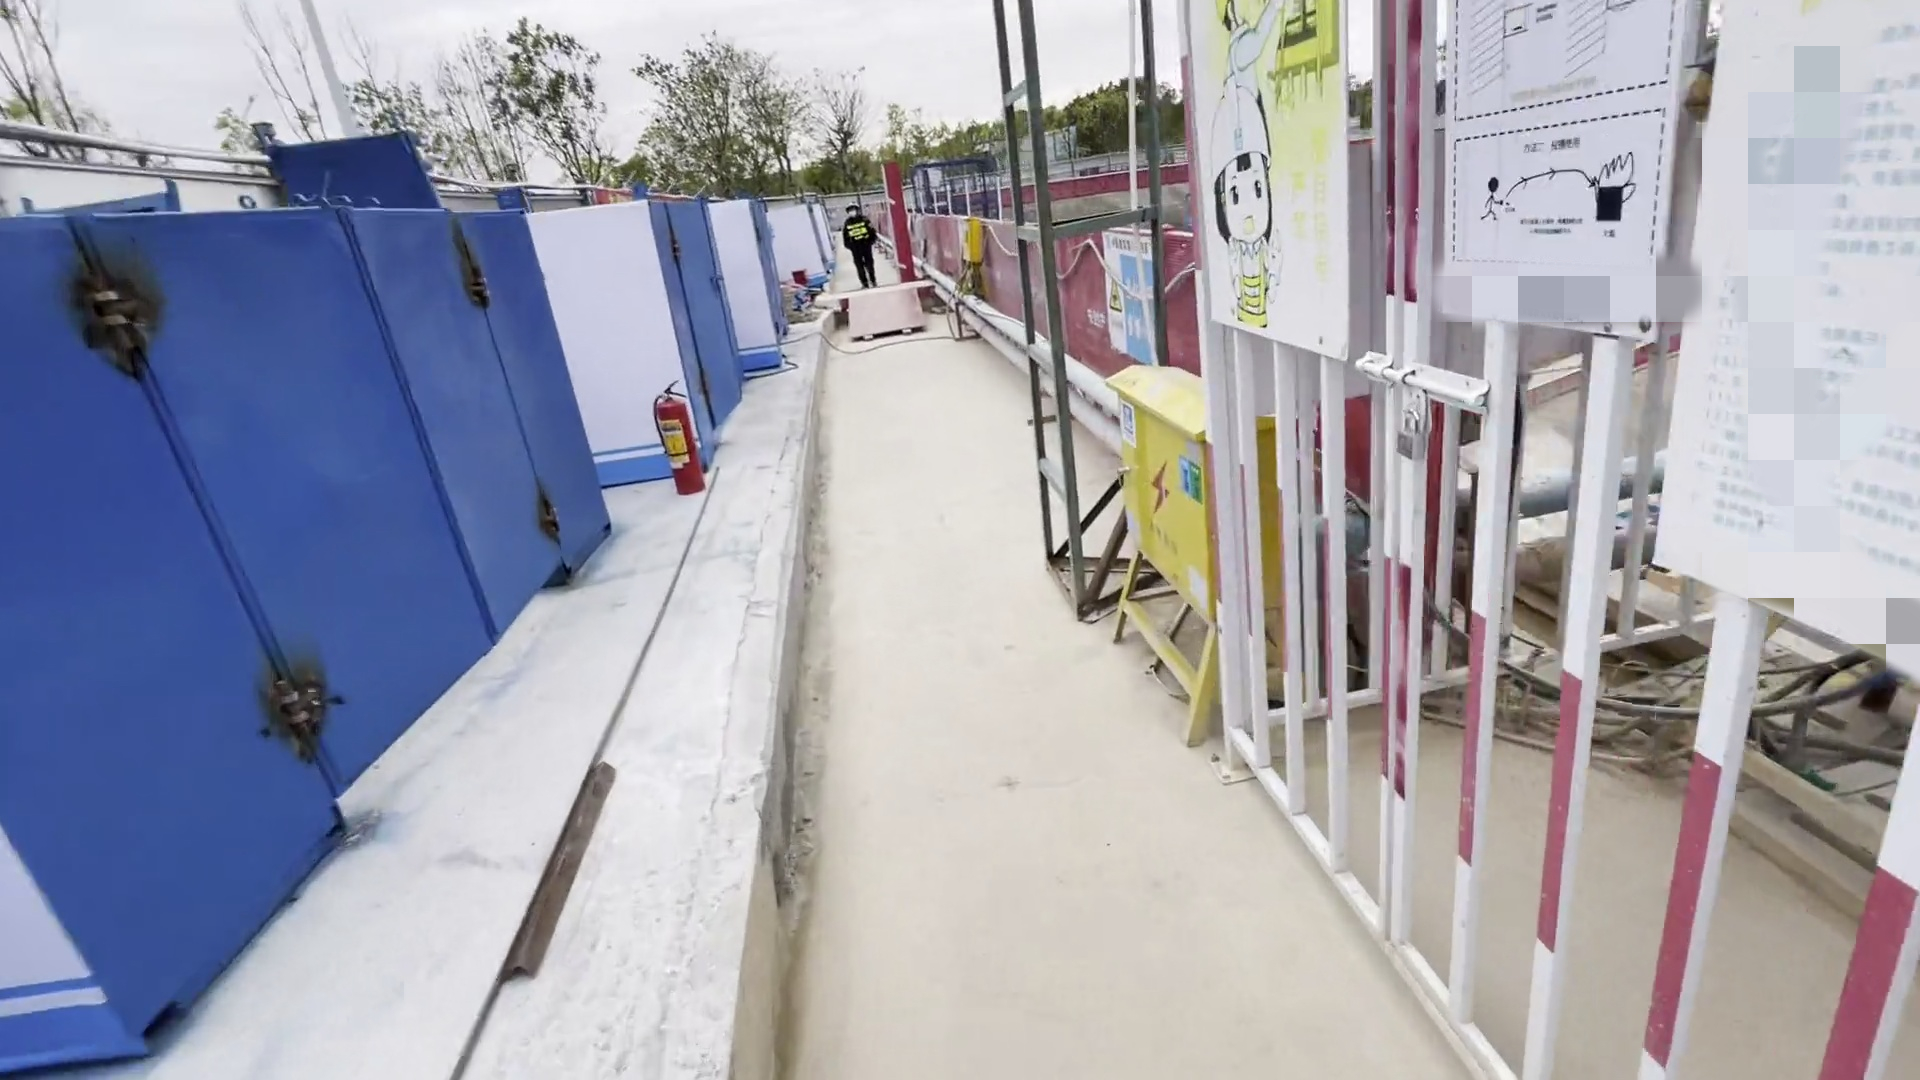board: (840, 285, 944, 345)
ebox: (1107, 351, 1338, 737), (940, 218, 998, 270)
fence: (908, 218, 1208, 399), (977, 172, 1183, 214)
helmet: (842, 200, 864, 211)
person: (835, 195, 894, 289)
slogan: (1627, 16, 1920, 584), (1431, 5, 1677, 373), (1190, 3, 1368, 376), (1083, 211, 1167, 378), (654, 416, 700, 476)
vest: (840, 216, 877, 249)
